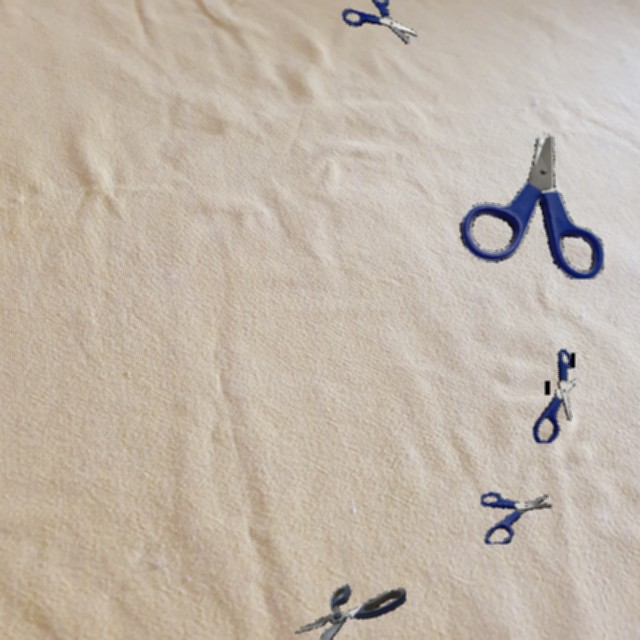scissors: (460, 132, 604, 279), (295, 584, 406, 640), (533, 349, 576, 443), (481, 492, 552, 544), (342, 0, 417, 44)
